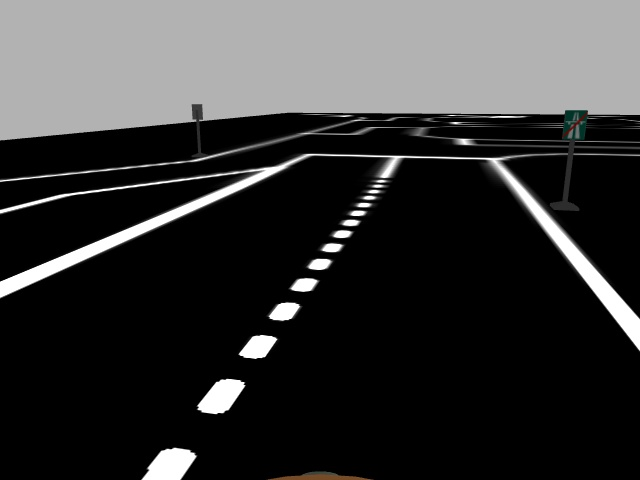leave_highway: (560, 108, 589, 141)
